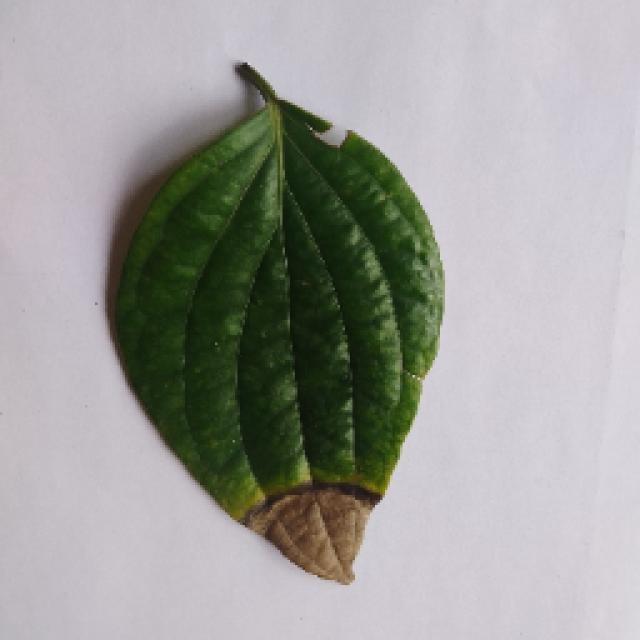footrot: (98, 65, 452, 580)
